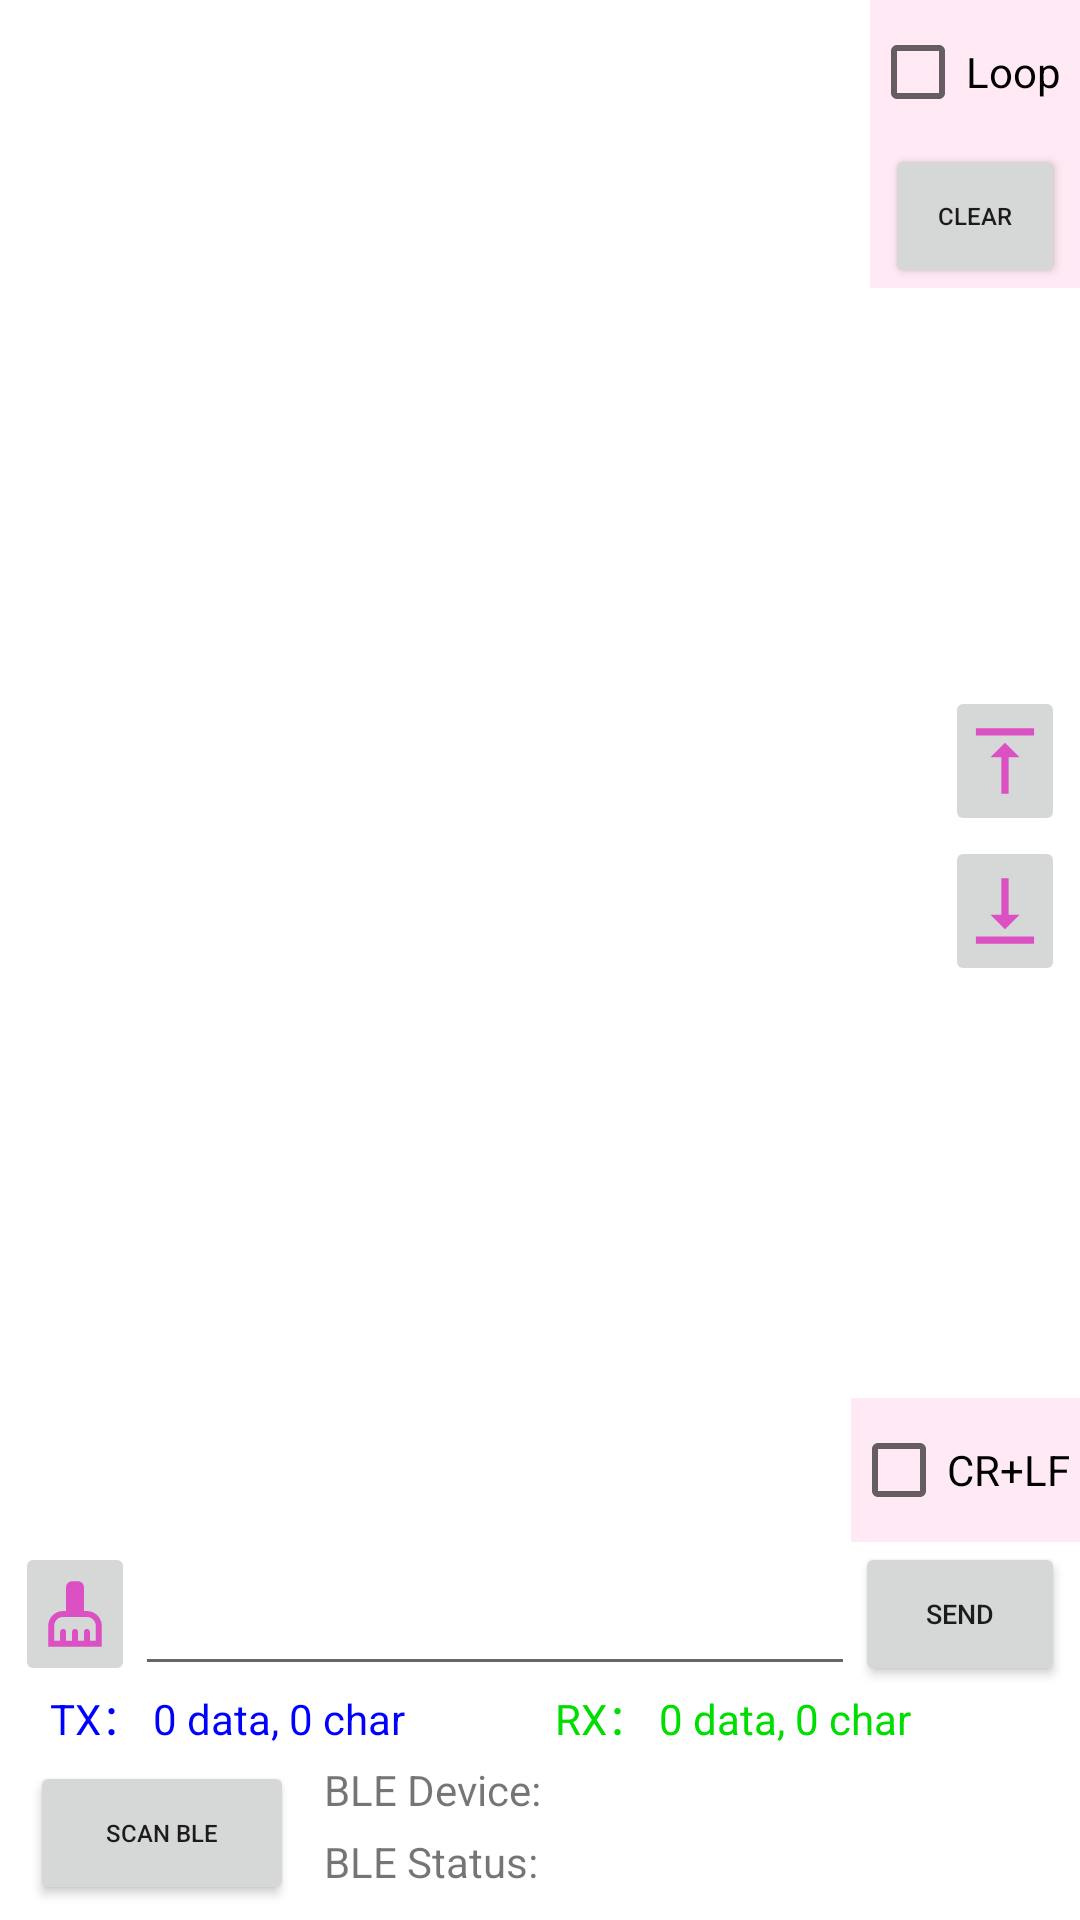

Point at icon controls on the screen. Image size 1080px×1920px, points as (x=x, y=y).
clear: (x=75, y=1614)
go down: (x=1005, y=911)
go up: (x=1005, y=761)
